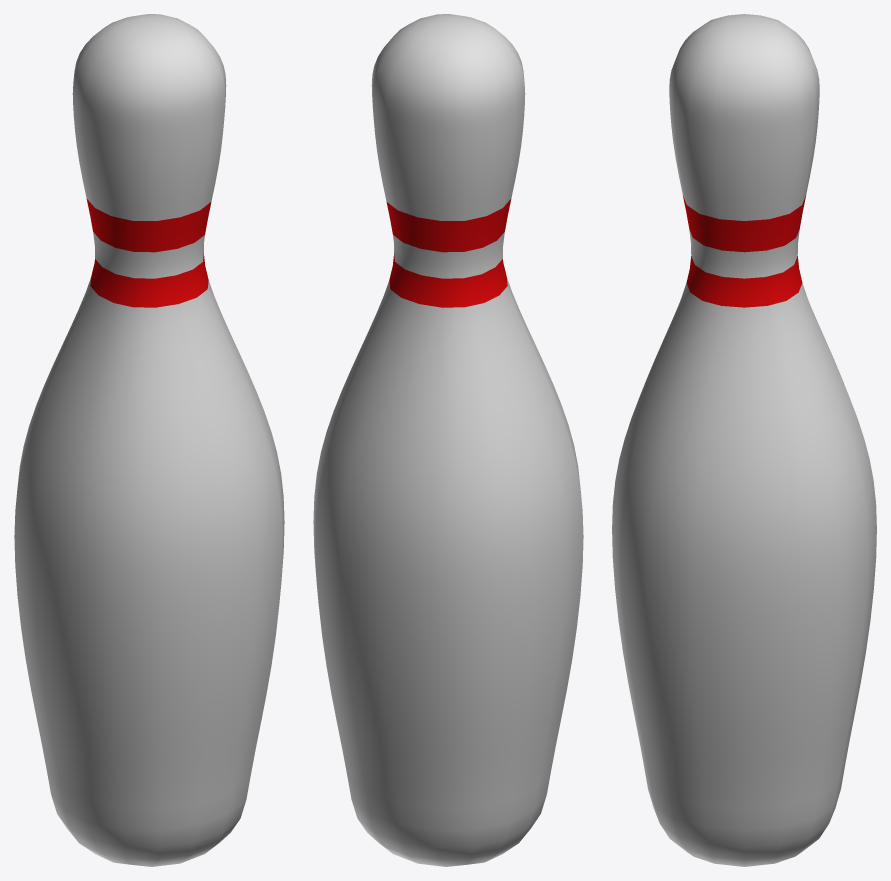
3 views of the same model, side by side, from view 1: azimuth 30°, elevation 25°; view 2: azimuth 150°, elevation 25°; view 3: azimuth 270°, elevation 25° (orthographic).
Parts seen in each view (by area): view 1: Pin; view 2: Pin; view 3: Pin.
Boxes of the visible parts, x1,y1,x2,y2 form: Pin: (14, 14, 284, 866); Pin: (313, 14, 583, 866); Pin: (612, 14, 876, 866).
Bounding box in the file's own units: 1.01 × 3.42 × 0.9984.
